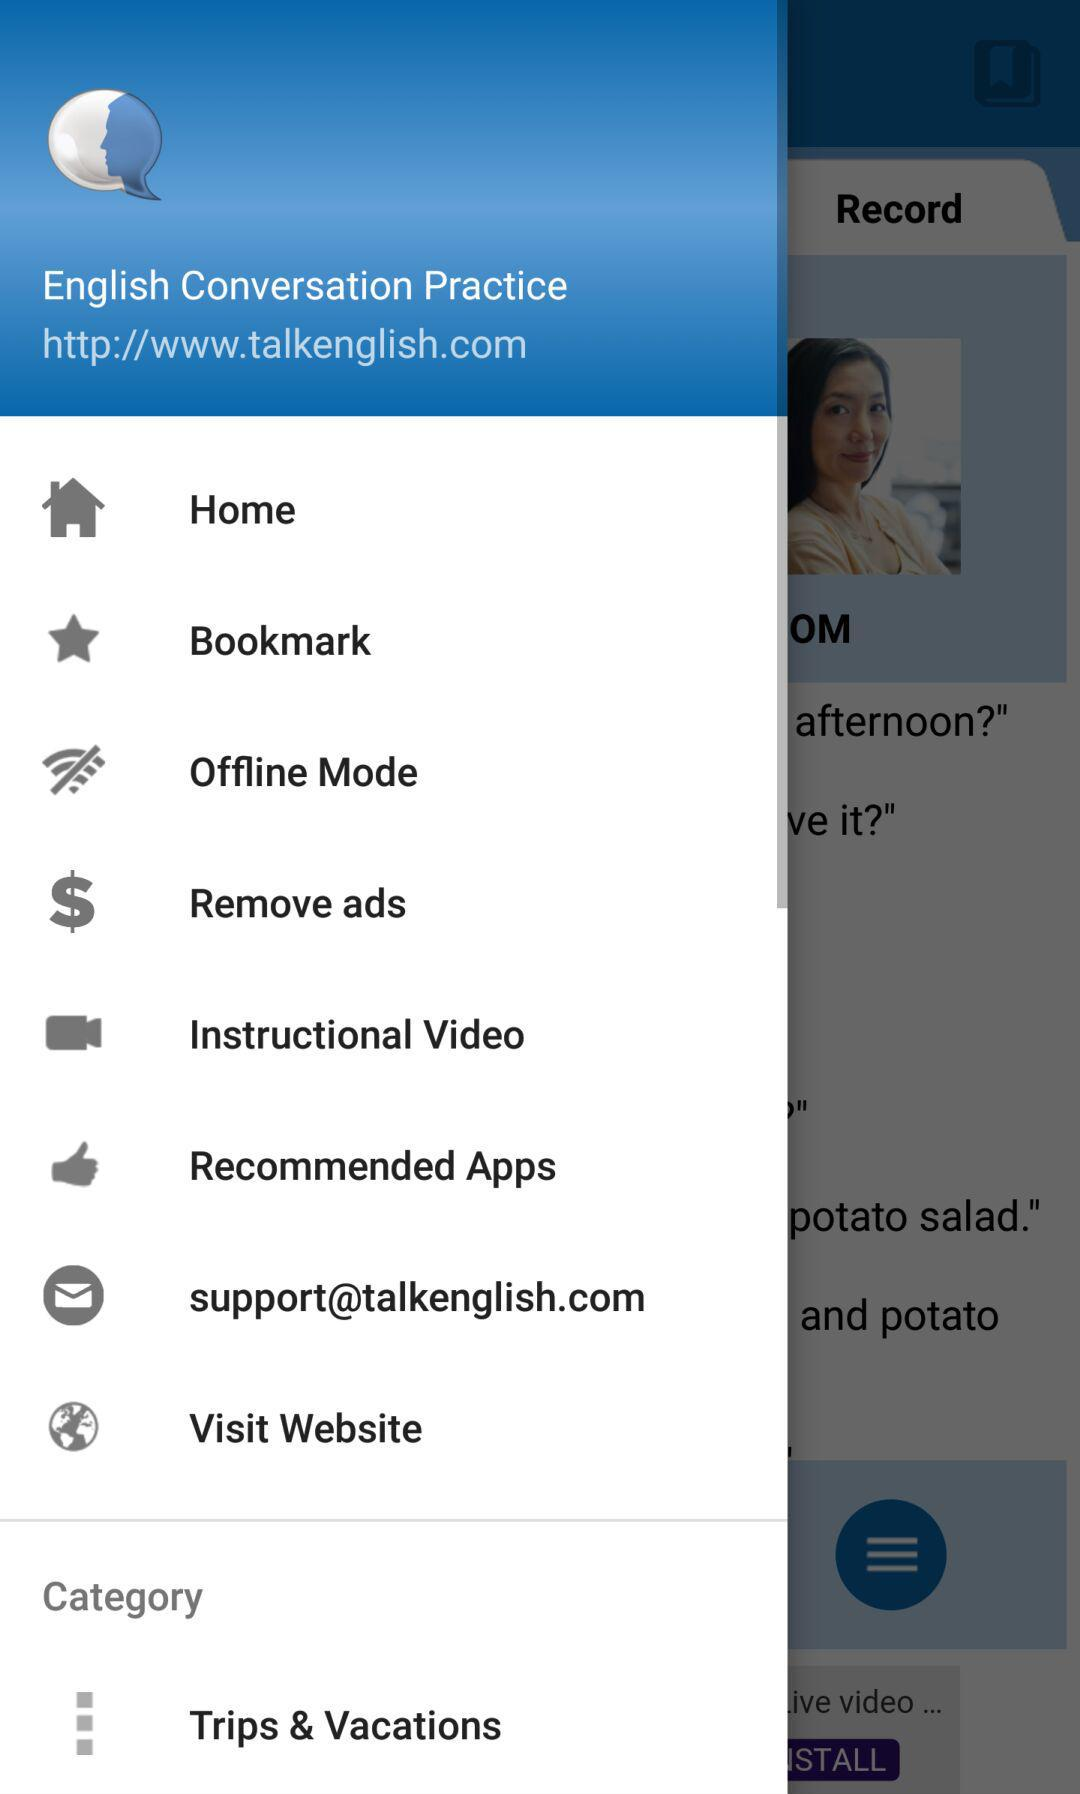Drawer: (3, 1, 790, 1794)
Icon: (41, 475, 108, 539), (44, 1263, 108, 1326), (49, 869, 96, 934), (47, 613, 101, 664), (76, 1689, 97, 1758)
Image: (47, 88, 167, 202), (42, 745, 108, 797), (47, 1401, 101, 1453), (53, 1140, 100, 1188), (45, 1015, 104, 1052)
Text: (44, 267, 569, 311), (44, 325, 527, 369), (190, 1280, 644, 1321), (191, 1148, 557, 1190), (190, 1708, 503, 1750), (191, 1017, 527, 1051), (190, 753, 419, 789), (190, 1411, 424, 1445), (191, 885, 407, 920), (44, 1580, 205, 1621), (191, 623, 373, 657), (191, 495, 297, 527)
